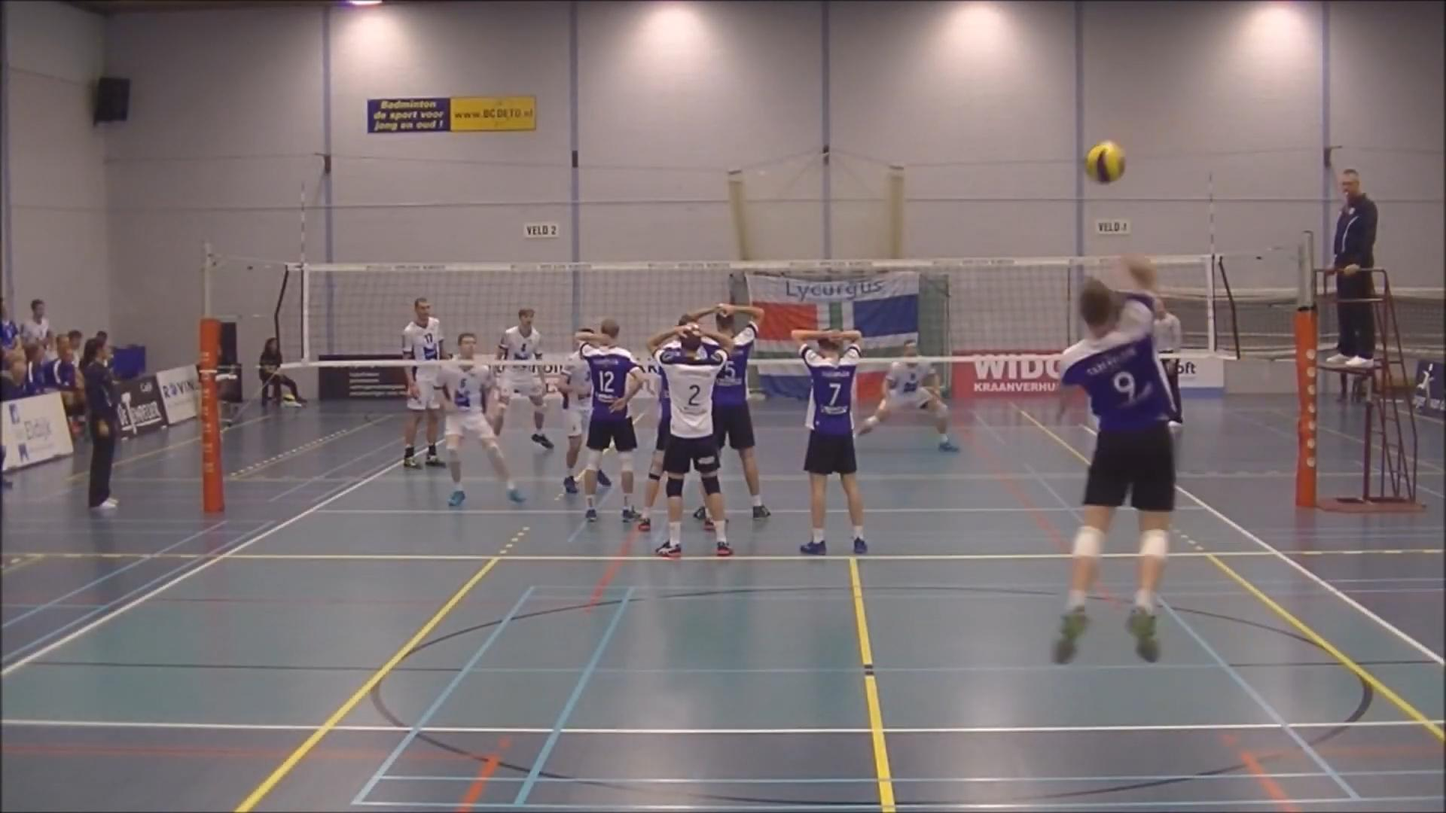battuta: (1025, 248, 1199, 678)
